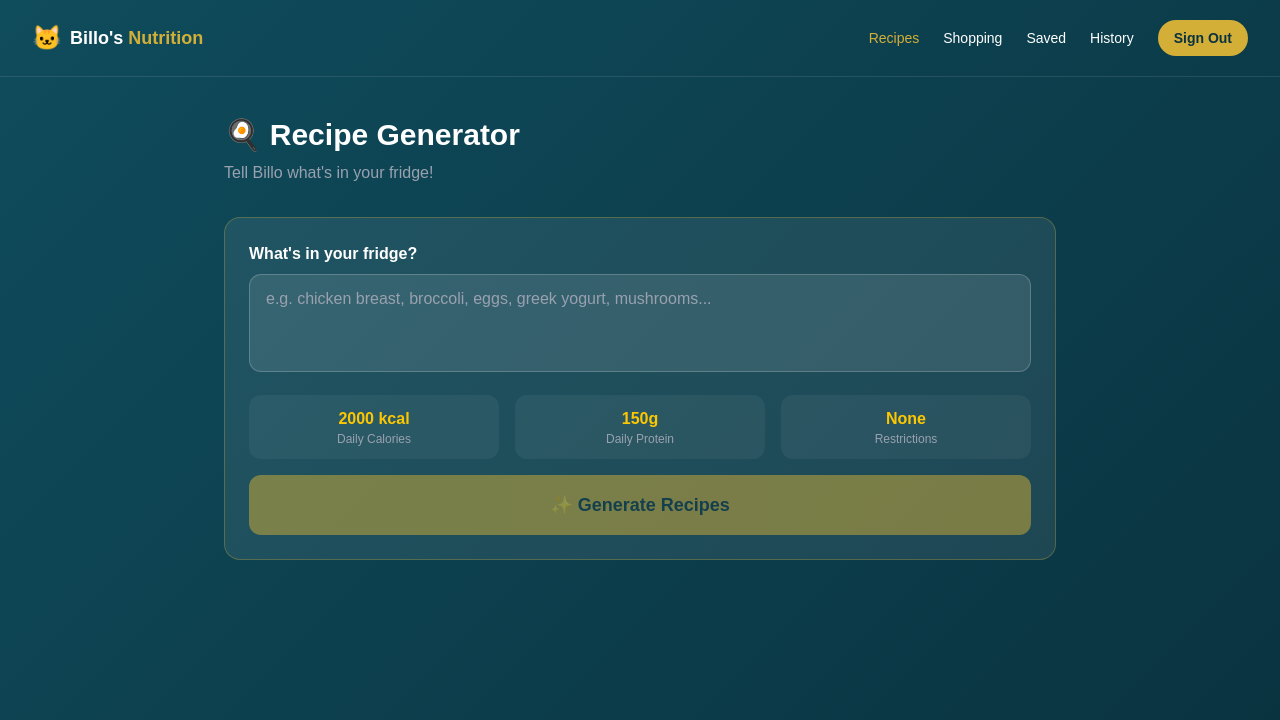
Scenario: RecipesPage › generates recipes for logged-in user
Check: the text "2000 kcal" is shown, box [338, 410, 410, 427]
Replace the text in the text box with placeholder "chicken breast" with "chicken" at (640, 323), box [249, 274, 1031, 372]
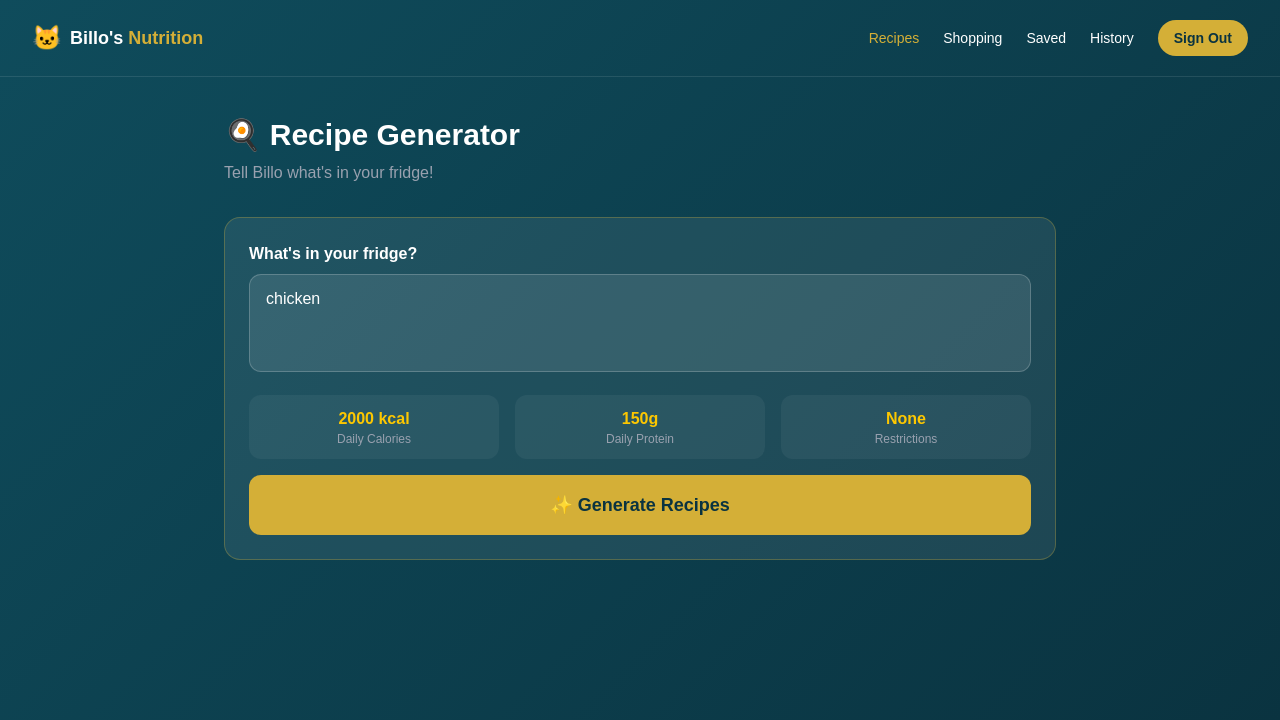
Click the button "✨ Generate Recipes".
click(640, 505)  # box [249, 475, 1031, 535]
(page scrolled)
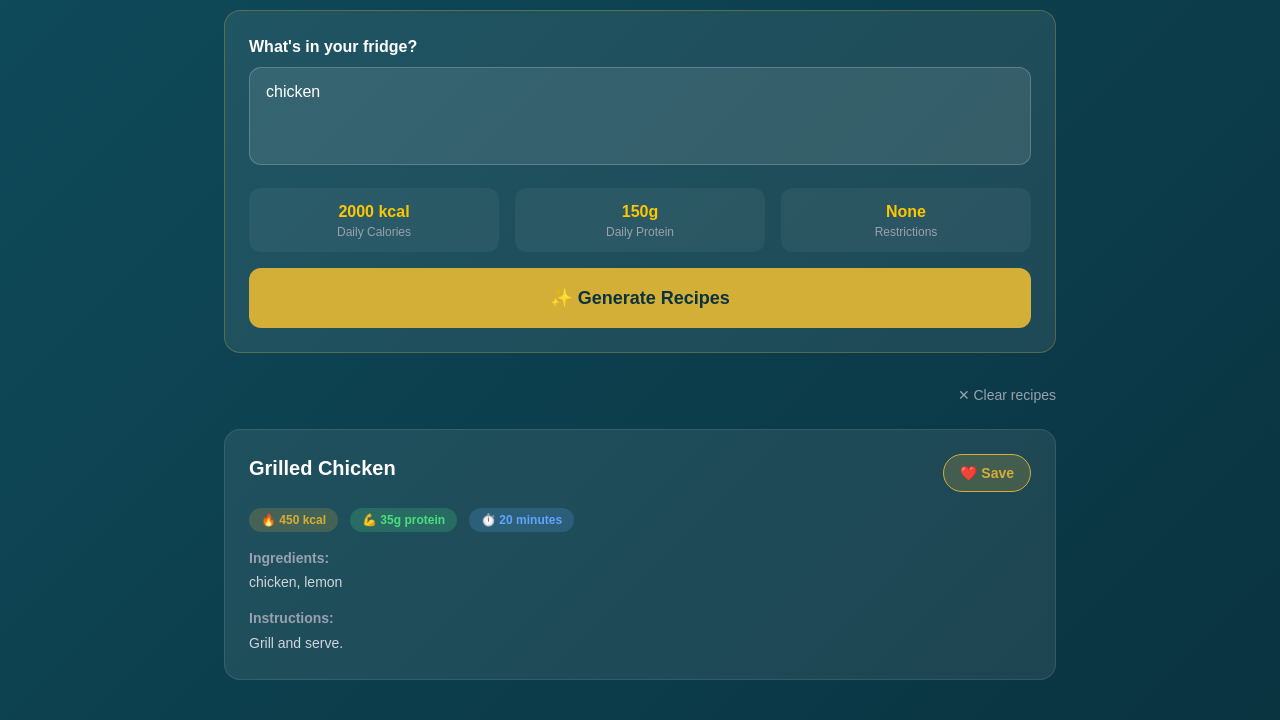
Check: the heading "Grilled Chicken" is shown, box [249, 454, 396, 482]
Check: the text "🔥 450 kcal" is shown, box [249, 508, 338, 532]
Check: the text "Grill and serve." is shown, box [249, 635, 343, 651]
